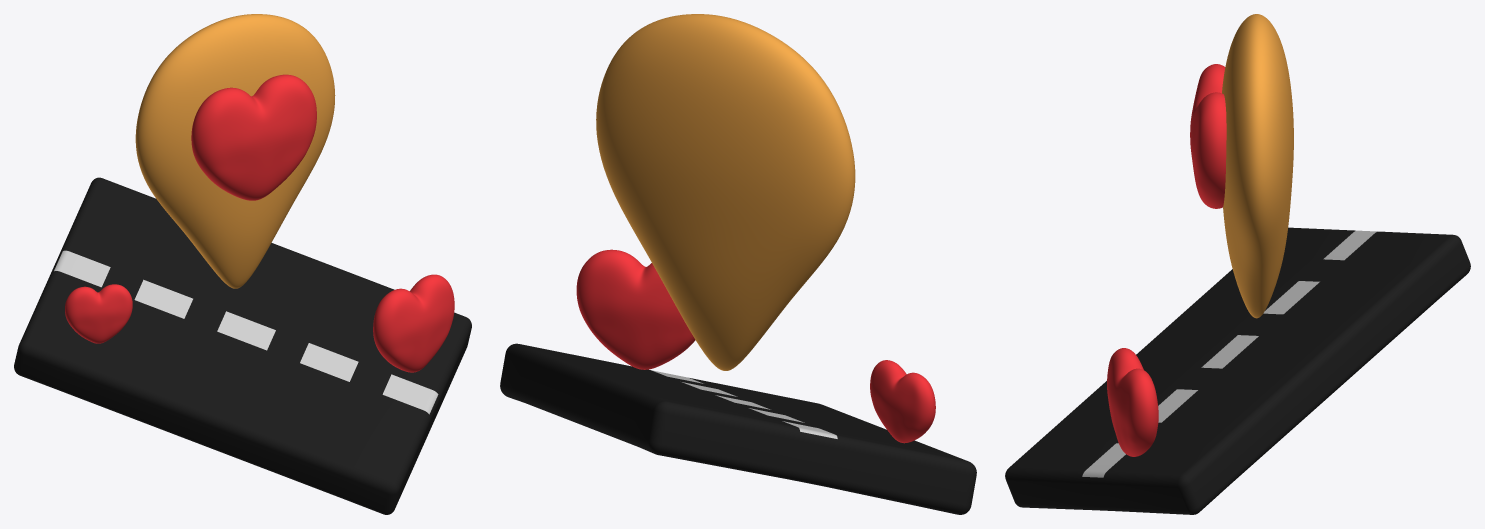
The model's file is wedding-location.glb.
The picture shows the model from 3 angles, left to right: view 1: azimuth 30°, elevation 25°; view 2: azimuth 150°, elevation 25°; view 3: azimuth 270°, elevation 25°; orthographic projection. The views are drawn at different scales.
Visible parts, largest first — view 1: Plane, Cube, Heart.001, Heart.003, Heart.002; view 2: Cube, Plane, Heart.003, Heart.002; view 3: Plane, Cube, Heart.001, Heart.003.
Boxes of the visible parts, x1,y1,x2,y2 form: Plane: (14,177,471,514); Cube: (135,14,335,288); Heart.001: (191,74,316,200); Heart.003: (373,274,454,372); Heart.002: (65,284,132,343); Cube: (596,14,855,370); Plane: (500,343,976,514); Heart.003: (576,249,695,369); Heart.002: (870,360,935,443); Plane: (1005,227,1470,514); Cube: (1222,14,1293,318); Heart.001: (1190,64,1226,208); Heart.003: (1107,348,1158,456).
Size of the model in its own units: 2 by 2.01 by 1.85.
